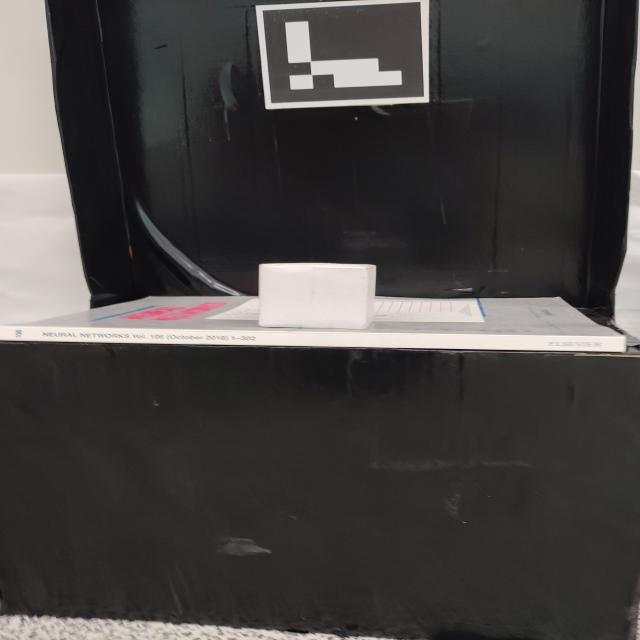bale: (253, 260, 379, 330)
